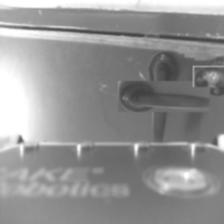Door Handle: (133, 65, 195, 127)
Lock: (198, 60, 224, 92)
